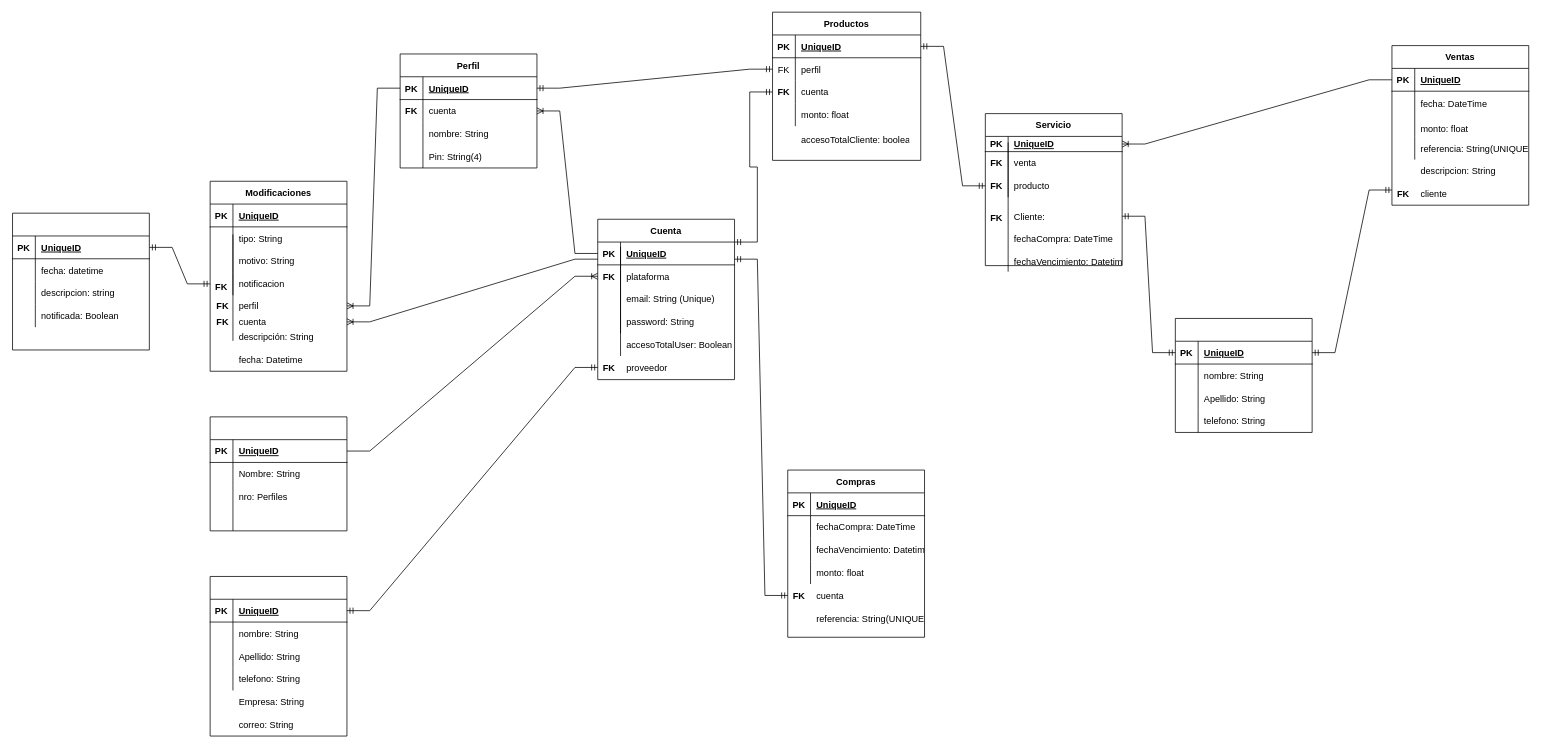
This 1544x749 diagram has some shape labels left out. The box of each missing label's shape, as (x1, y1, x2, y2) in pixels:
Clientes: (1175, 318, 1312, 432)
Notificaciones: (12, 212, 149, 350)
Plataformas: (209, 416, 347, 531)
Proveedores: (209, 576, 347, 736)
